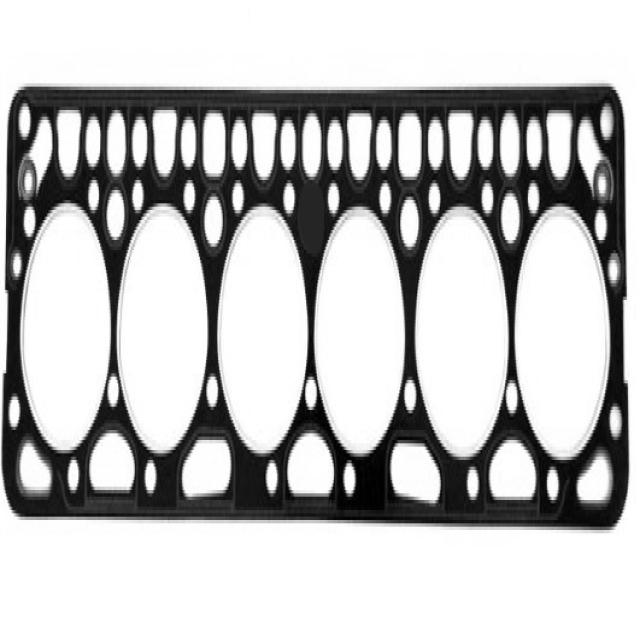missing hole: (283, 175, 334, 287)
